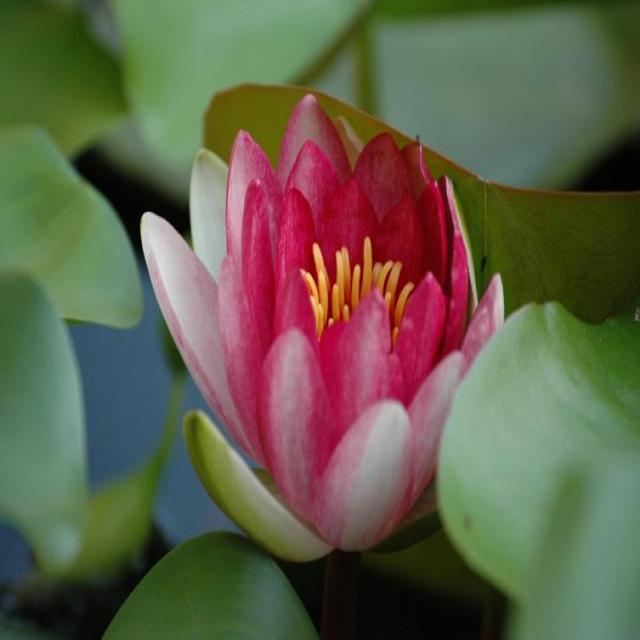rose: (114, 18, 633, 640)
